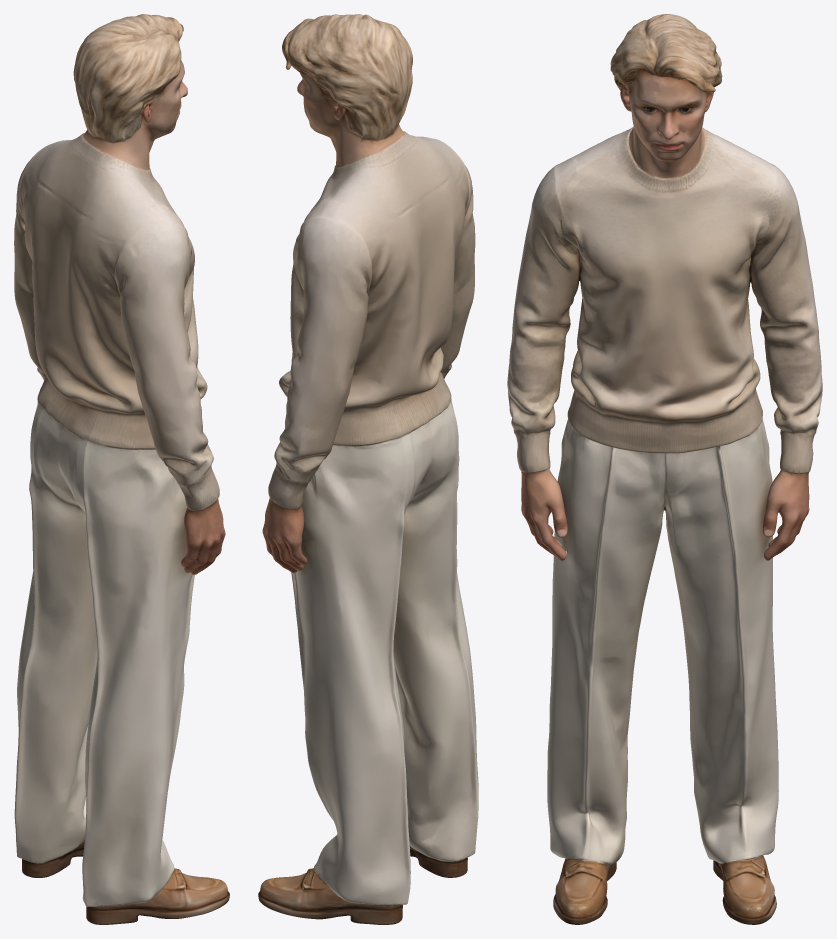
The model's file is style-soft.glb.
The picture shows the model from 3 angles, left to right: view 1: azimuth 30°, elevation 25°; view 2: azimuth 150°, elevation 25°; view 3: azimuth 270°, elevation 25°; orthographic projection. The views are drawn at different scales.
Visible parts, largest first — view 1: tripo_node_b7ab9e37-0e86-46cb-a1cc-88eeb43706aa; view 2: tripo_node_b7ab9e37-0e86-46cb-a1cc-88eeb43706aa; view 3: tripo_node_b7ab9e37-0e86-46cb-a1cc-88eeb43706aa.
Part boxes in pixels (x1,y1,x2,y2): tripo_node_b7ab9e37-0e86-46cb-a1cc-88eeb43706aa: (14,14,229,924); tripo_node_b7ab9e37-0e86-46cb-a1cc-88eeb43706aa: (258,14,478,924); tripo_node_b7ab9e37-0e86-46cb-a1cc-88eeb43706aa: (507,14,822,924).
Bounding box in the file's own units: 0.1759 × 1 × 0.3248.
1 material, 1 textured.
